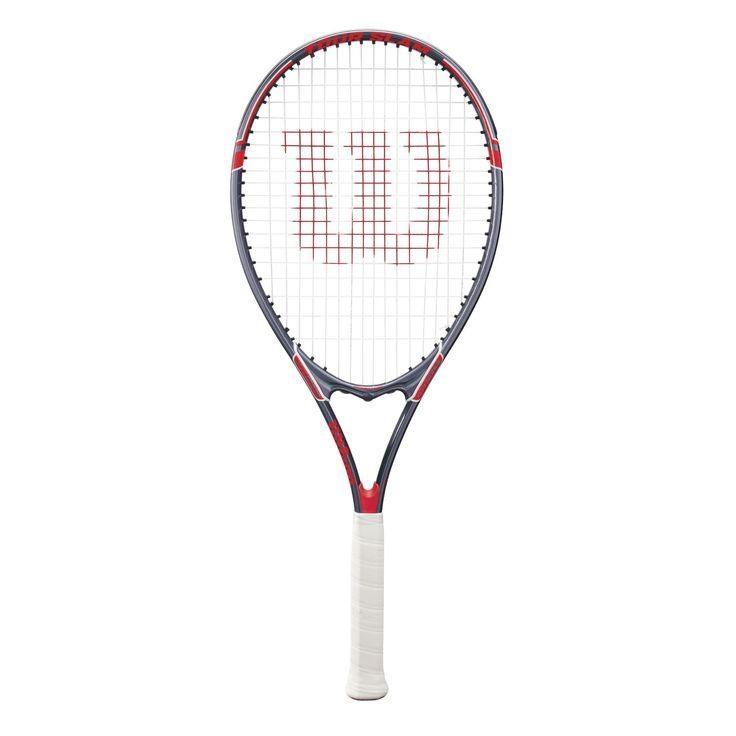Tennis-Racket: (215, 6, 512, 722)
